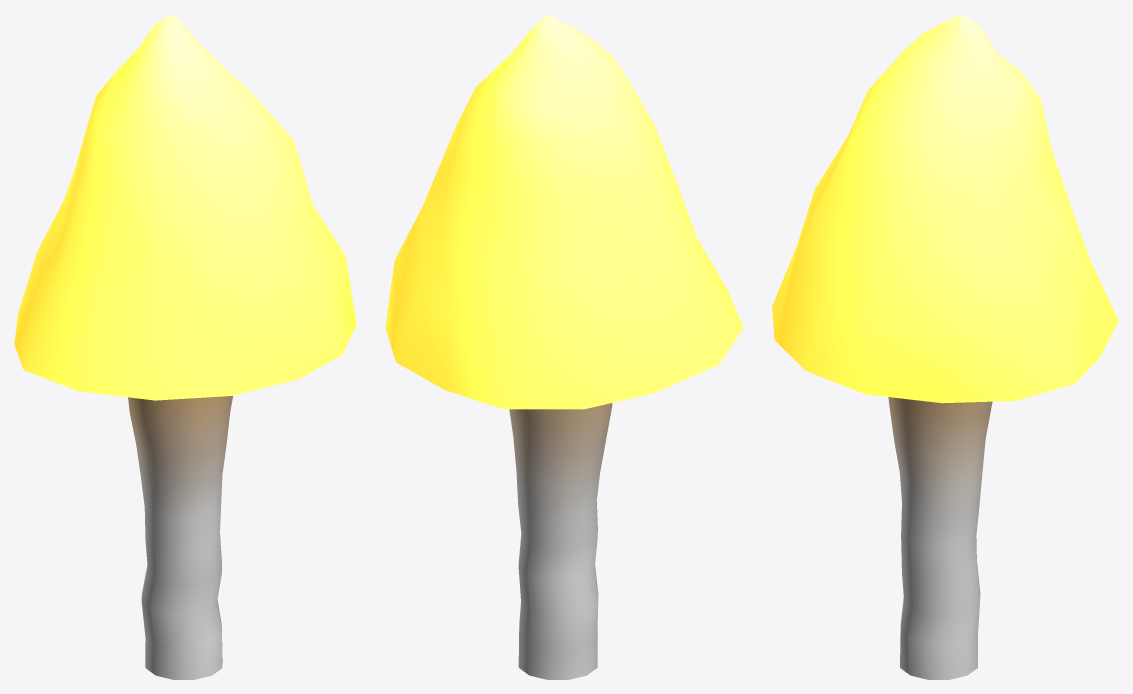
The model's file is mushroom_9.glb.
3 renders of one model, left to right at view 1: azimuth 30°, elevation 25°; view 2: azimuth 150°, elevation 25°; view 3: azimuth 270°, elevation 25°, orthographic. The views are drawn at different scales.
Parts seen in each view (by area): view 1: geo1; view 2: geo1; view 3: geo1.
Boxes of the visible parts, x1=… form: geo1: x1=14, y1=14, x2=356, y2=679; geo1: x1=385, y1=14, x2=743, y2=679; geo1: x1=772, y1=14, x2=1118, y2=679.
Size of the model in its own units: 0.1853 by 0.3836 by 0.1857.
